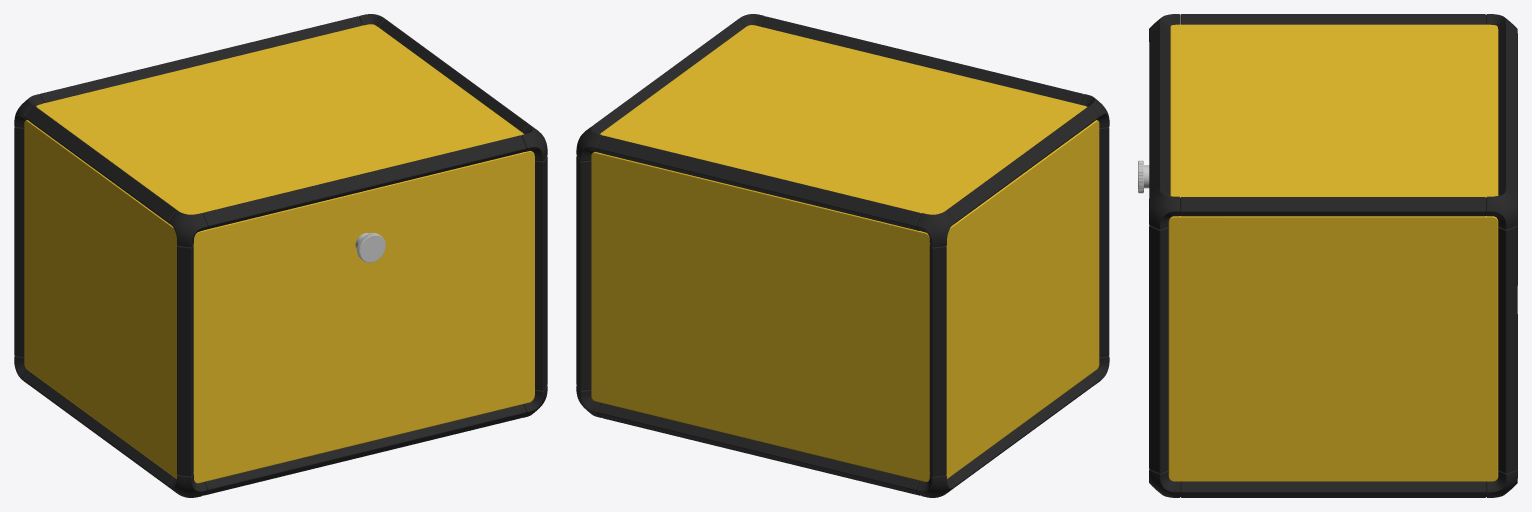
3 views of the same model, side by side, from view 1: azimuth 30°, elevation 25°; view 2: azimuth 150°, elevation 25°; view 3: azimuth 270°, elevation 25° (orthographic). The views are drawn at different scales.
Visible parts, largest first — view 1: 479x374x329; view 2: 479x374x329; view 3: 479x374x329.
Boxes of the visible parts, <box> form: 479x374x329: <box>14,14,547,497</box>; 479x374x329: <box>576,14,1109,497</box>; 479x374x329: <box>1138,14,1517,497</box>.
Size of the model in its own units: 0.5567 by 0.4066 by 0.4646.
